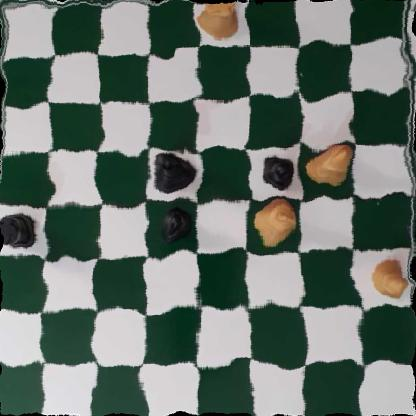black-king: (146, 147, 190, 192)
black-pawn: (258, 152, 298, 193), (157, 206, 193, 245)
white-bishop: (307, 142, 356, 188)
white-king: (254, 199, 300, 245)
white-pawn: (365, 253, 409, 298)
white-rook: (0, 213, 43, 256), (199, 0, 244, 40)
